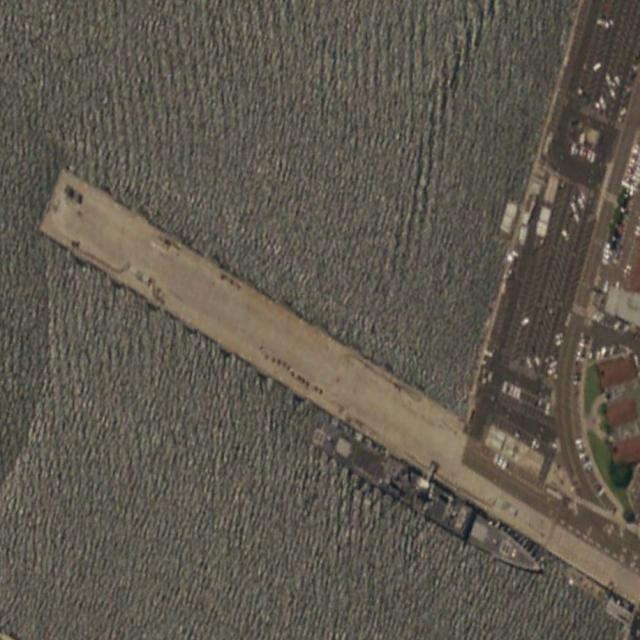Cruiser: (307, 412, 547, 584)
